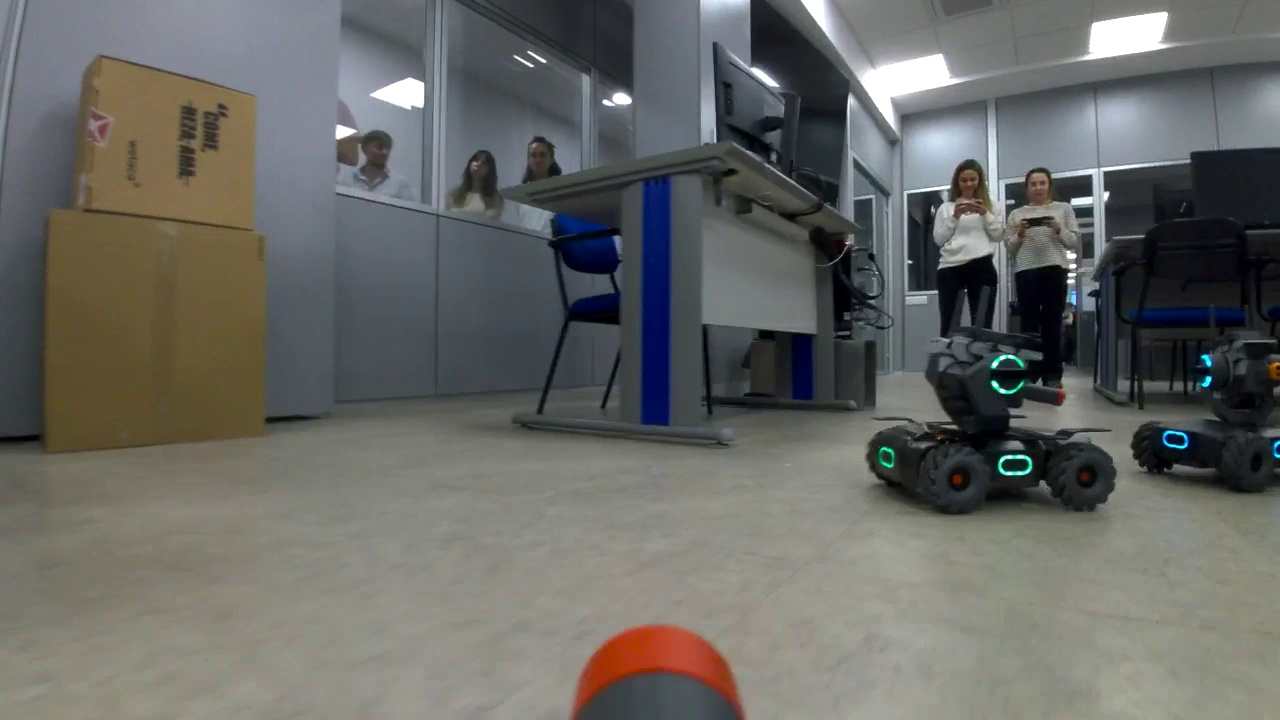robot: (861, 324, 1122, 518), (1130, 340, 1280, 495)
